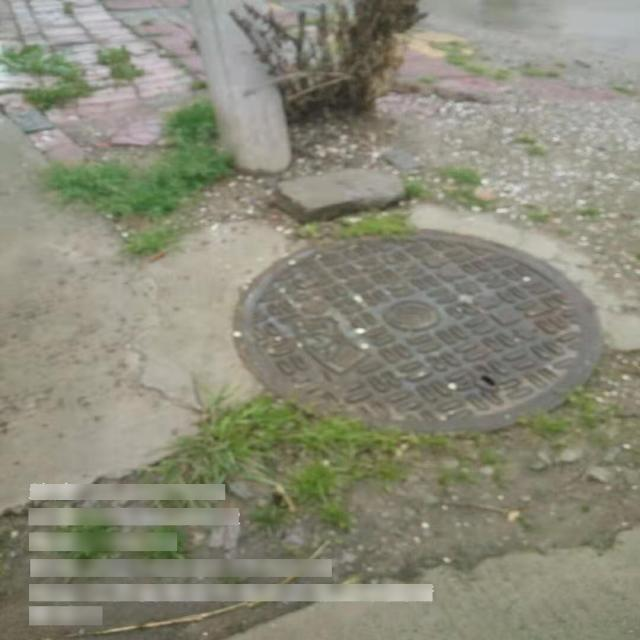Good: (232, 228, 604, 434)
